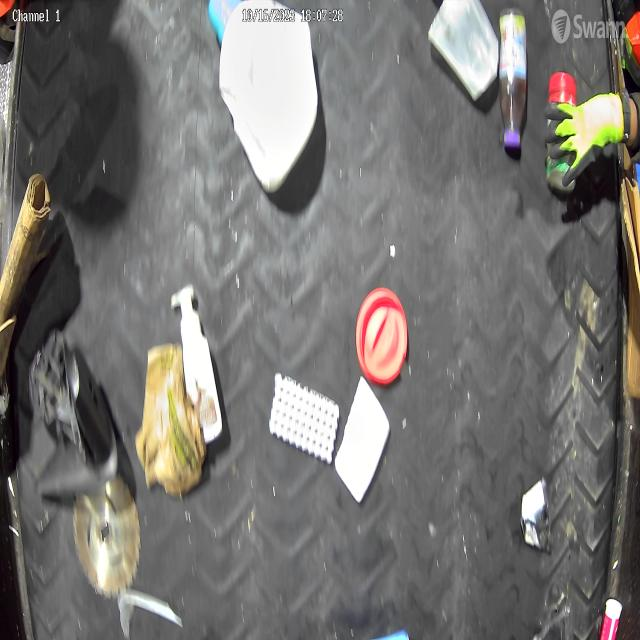can: (523, 479, 554, 560)
milk_jug: (220, 1, 319, 184)
